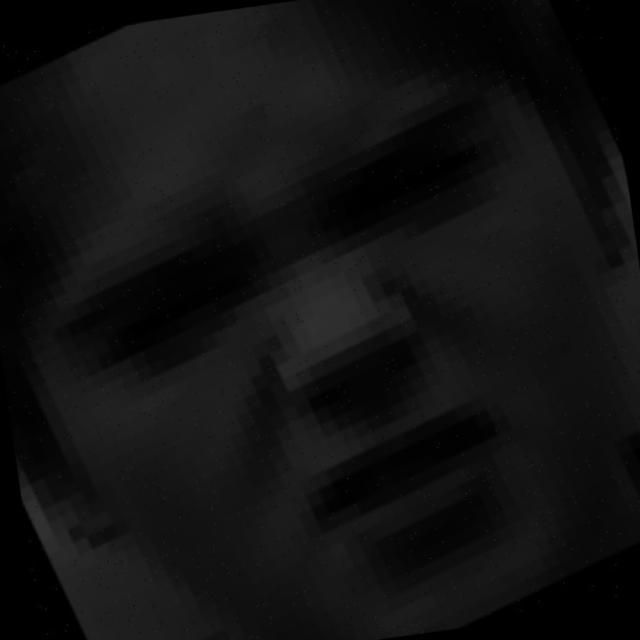Disgust: (27, 107, 640, 635)
